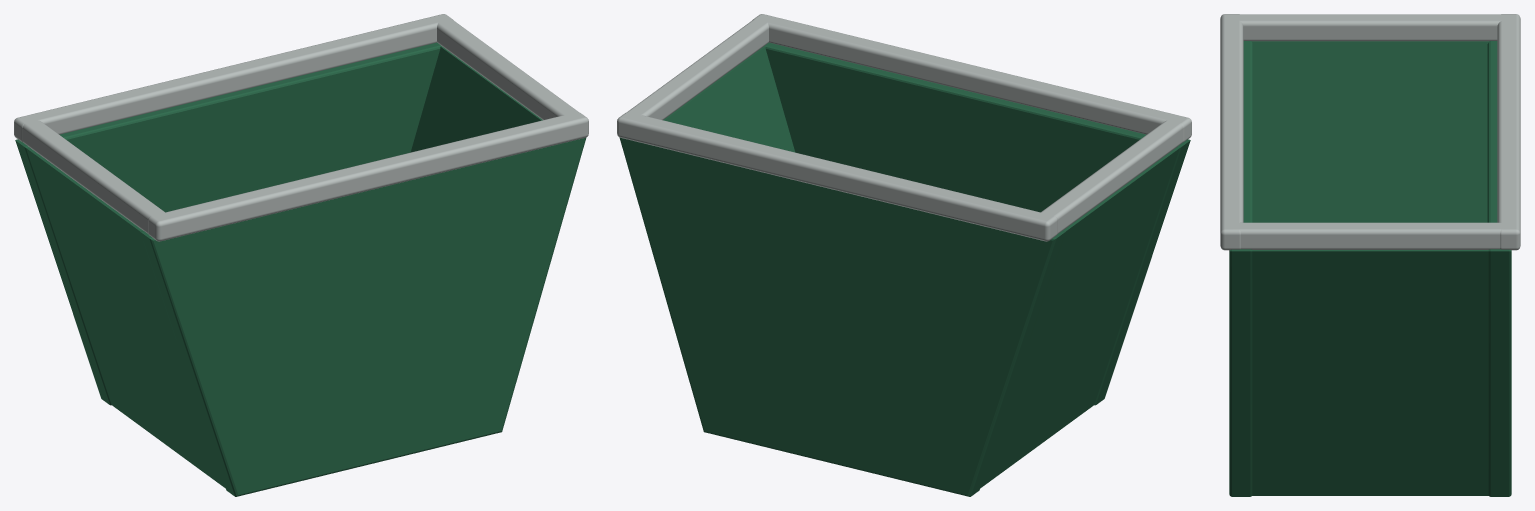
Rendered from cricket-ground-and-pavilion-bowling-machine-feed-hoppe-3c48fa88__31346.glb.
3 renders of one model, left to right at view 1: azimuth 30°, elevation 25°; view 2: azimuth 150°, elevation 25°; view 3: azimuth 270°, elevation 25°, orthographic. The views are drawn at different scales.
Visible parts, largest first — view 1: bowling-machine-feed-hopper; view 2: bowling-machine-feed-hopper; view 3: bowling-machine-feed-hopper.
Boxes of the visible parts, left/top/right/bottom form: bowling-machine-feed-hopper: left=14, top=14, right=588, bottom=496; bowling-machine-feed-hopper: left=617, top=14, right=1191, bottom=496; bowling-machine-feed-hopper: left=1220, top=14, right=1520, bottom=496.
Size of the model in its own units: 0.5669 by 0.368 by 0.325.
